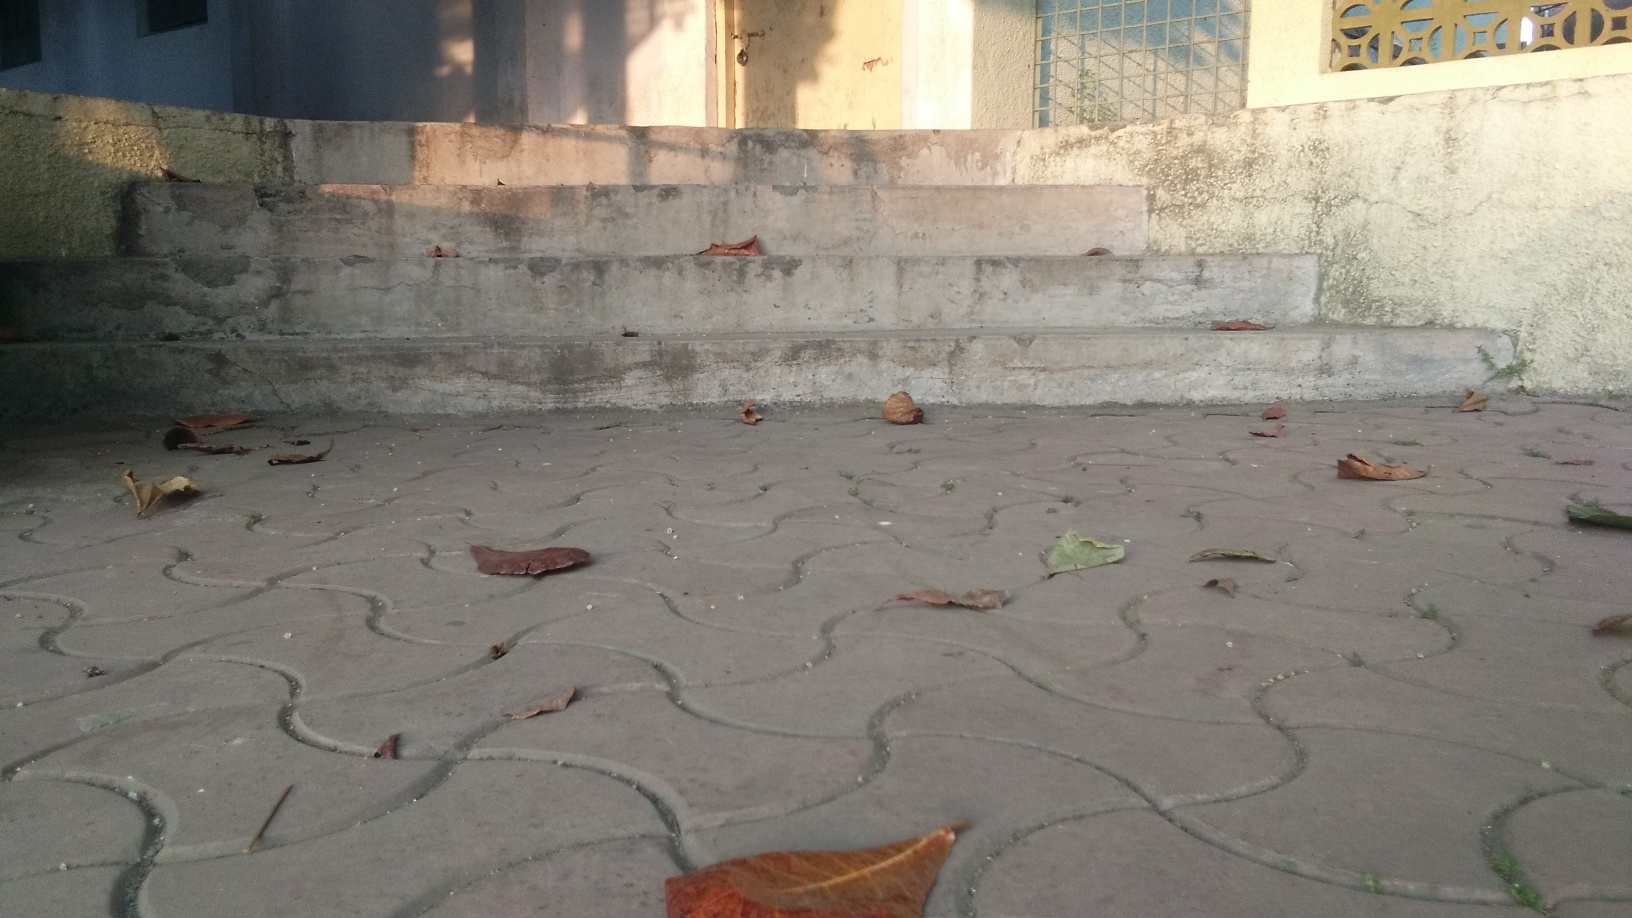stairs_up: (7, 115, 1570, 412)
